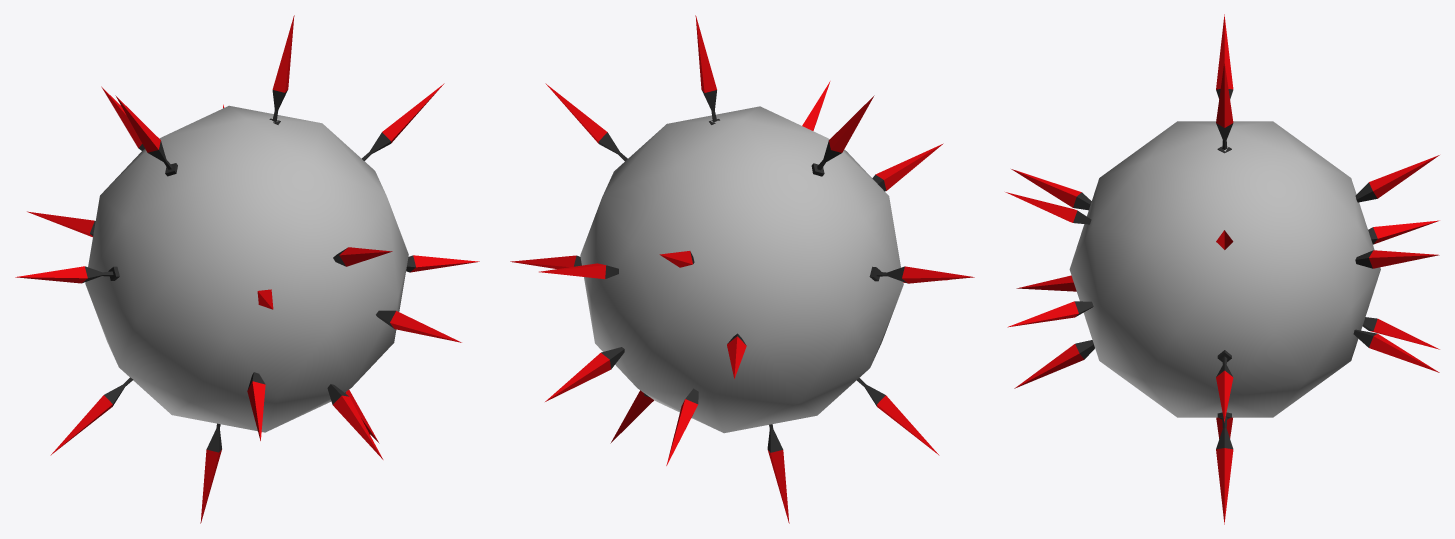
The model's file is Mine_001.fbx.
The picture shows the model from 3 angles, left to right: view 1: azimuth 30°, elevation 25°; view 2: azimuth 150°, elevation 25°; view 3: azimuth 270°, elevation 25°; orthographic projection. The views are drawn at different scales.
Visible parts, largest first — view 1: Mine.001; view 2: Mine.001; view 3: Mine.001.
Part boxes in pixels (bbox=[...]): Mine.001: bbox=[15, 15, 479, 523]; Mine.001: bbox=[510, 15, 974, 523]; Mine.001: bbox=[1005, 14, 1439, 524].
Size of the model in its own units: 33951 by 33951 by 29225.
